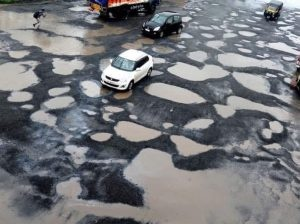pothole: (7, 38, 107, 118), (159, 46, 250, 113), (96, 104, 196, 150)
